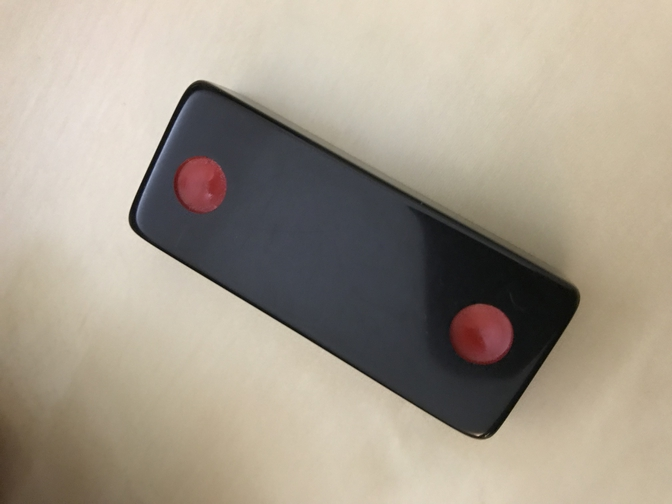earth: (128, 79, 581, 440)
